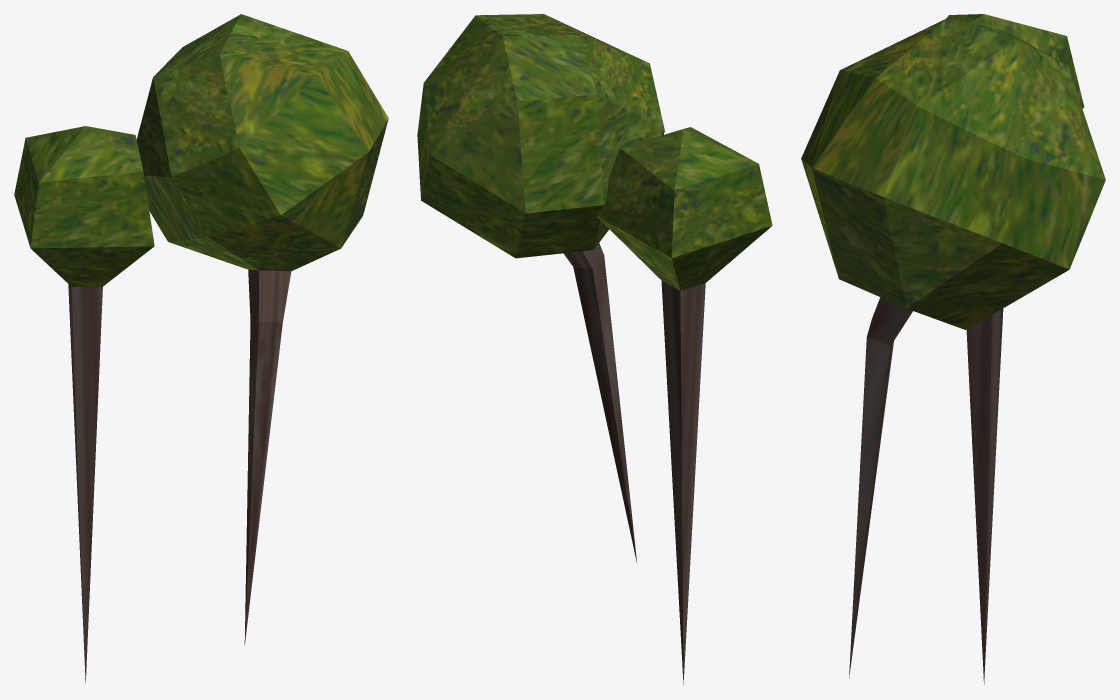
Rendered from tree4b.obj.
The picture shows the model from 3 angles, left to right: view 1: azimuth 30°, elevation 25°; view 2: azimuth 150°, elevation 25°; view 3: azimuth 270°, elevation 25°; orthographic projection. The views are drawn at different scales.
Visible parts, largest first — view 1: tree4; view 2: tree4; view 3: tree4.
Boxes of the visible parts, box(x1,y1,x2,y2) form: tree4: box(14, 14, 388, 683); tree4: box(417, 14, 772, 685); tree4: box(801, 14, 1105, 684).
Bounding box in the file's own units: 11.37 × 20.24 × 7.5.
